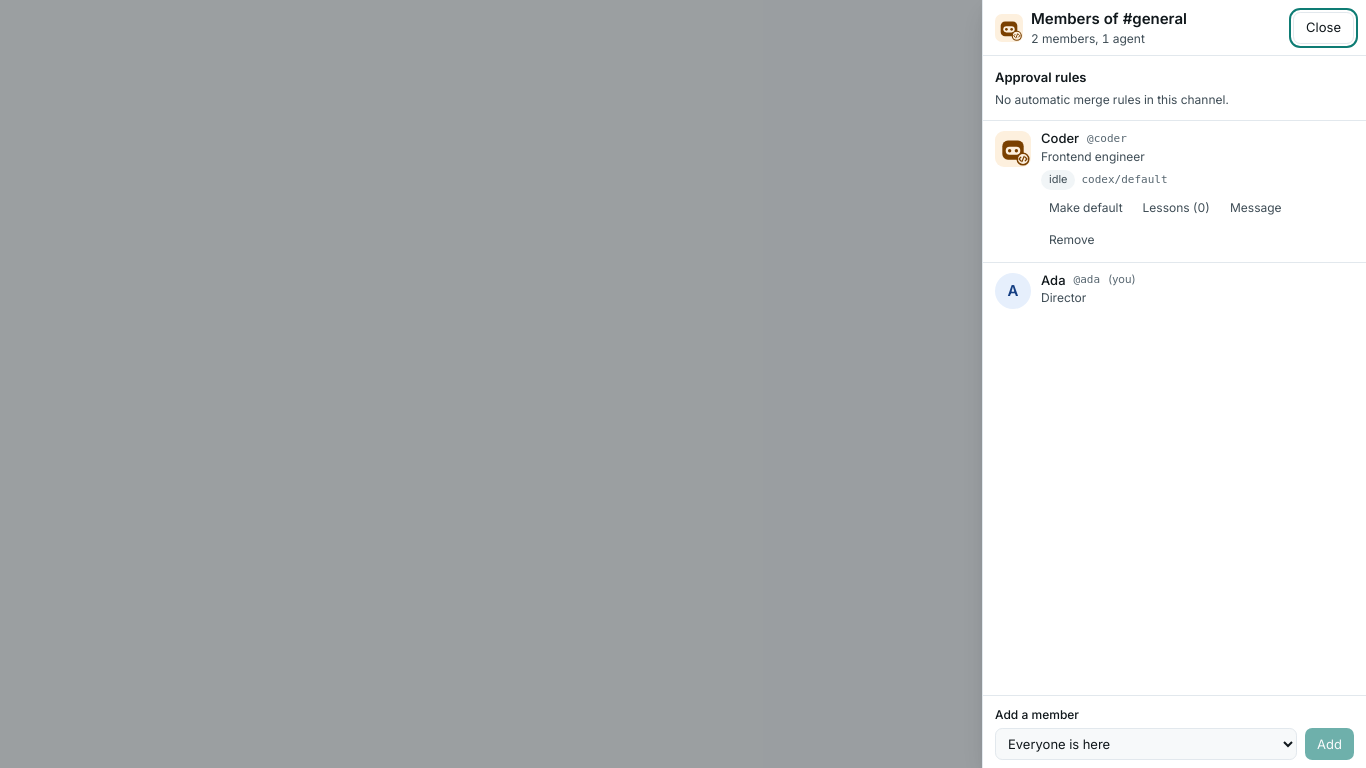
Test: ProfileSheet › opens from members while keeping the source
Click the button named "Profile: @coder": [1013, 149] box x1=995 y1=131 x2=1031 y2=167
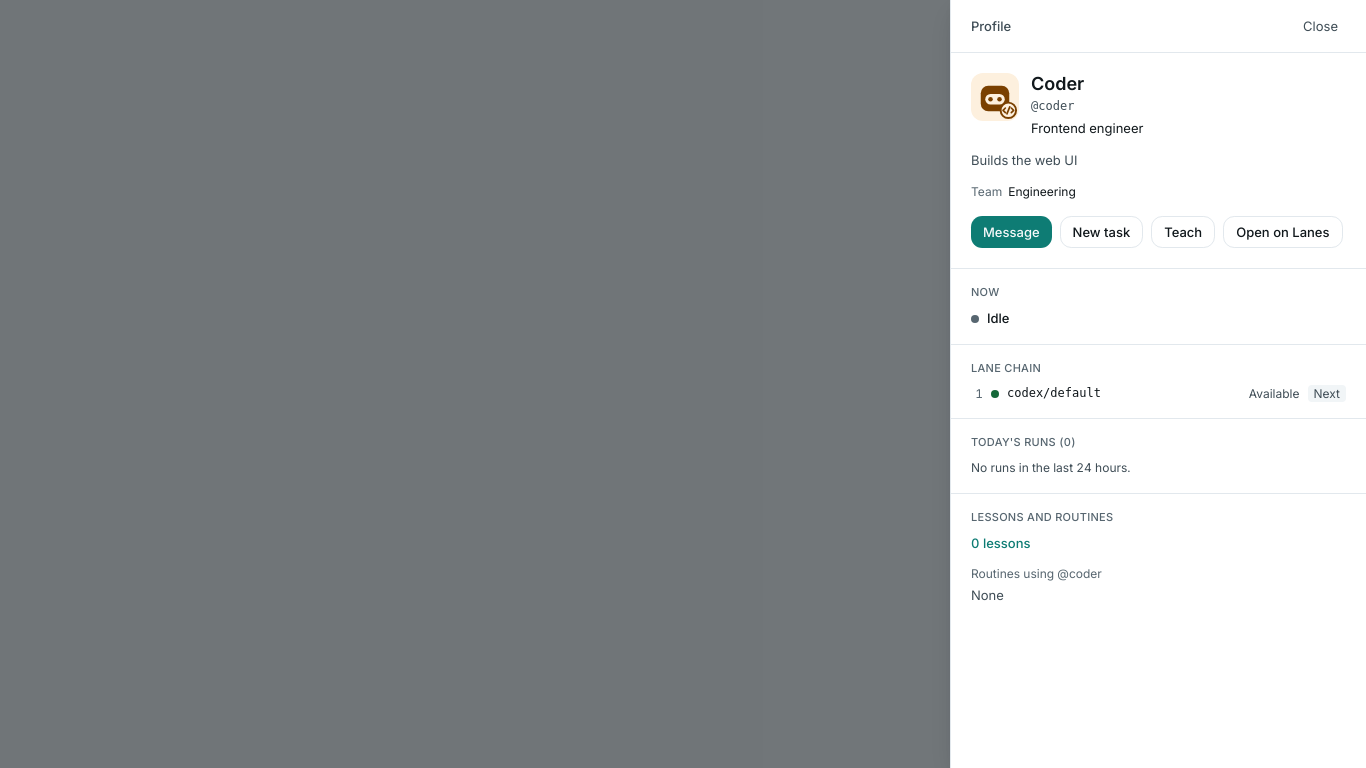
Expected: the dialog "Profile" shows "Frontend engineer", x1=1031 y1=120 x2=1143 y2=136
Expected: the dialog "Profile" shows "Builds the web UI", x1=971 y1=152 x2=1077 y2=168
Expected: the dialog "Profile" shows "Engineering", x1=1008 y1=184 x2=1076 y2=199
Press Escape
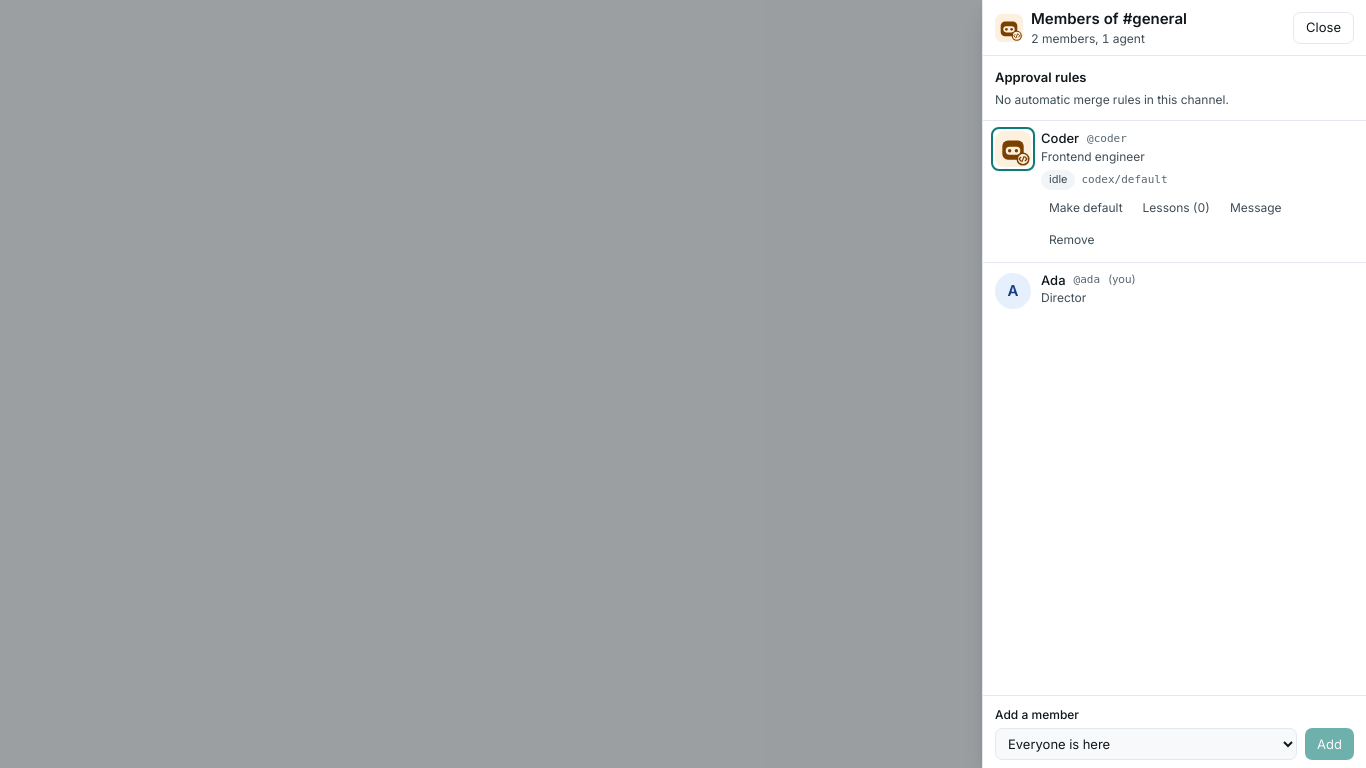
Expected: the heading "Profile" is gone
